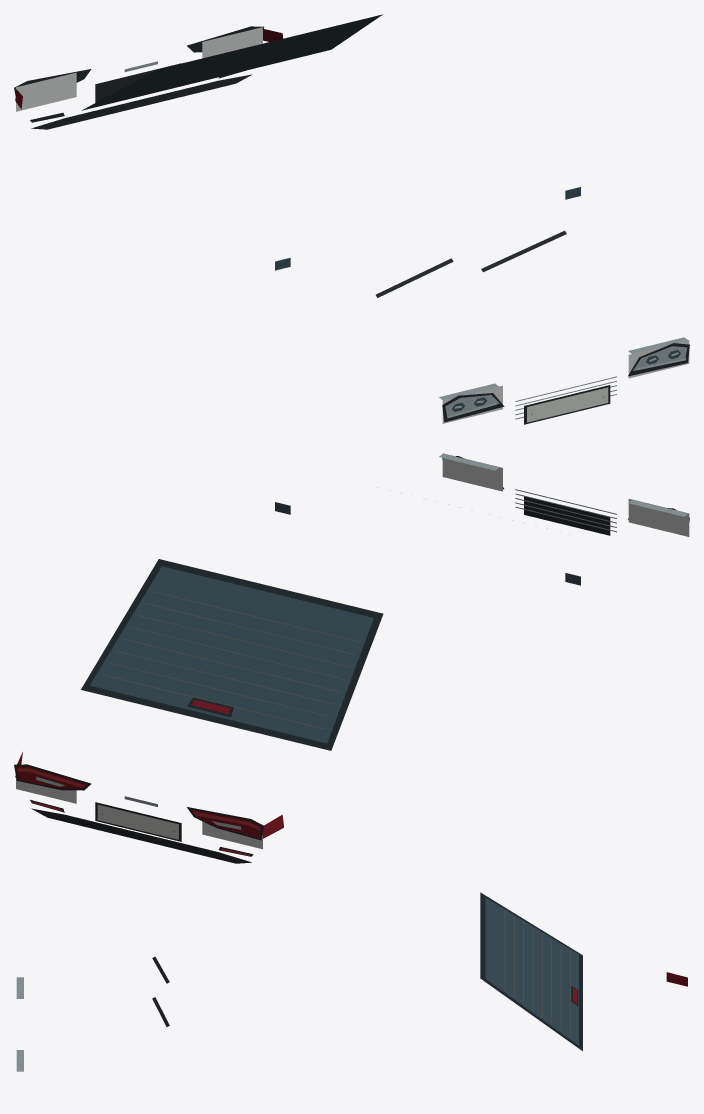
File: sedan-curb.glb
3 renders of one model, top to bottom at view 1: azimuth 30°, elevation 25°; view 2: azimuth 150°, elevation 25°; view 3: azimuth 270°, elevation 25°, orthographic. The views are drawn at different scales.
Parts seen in each view (by area): view 1: Surface; view 2: Surface; view 3: Surface.
Boxes of the visible parts, x1,y1,x2,y2 form: Surface: [14, 14, 689, 424]; Surface: [14, 453, 689, 863]; Surface: [16, 892, 687, 1071].
Size of the model in its own units: 1.97 by 0.9831 by 4.8.
